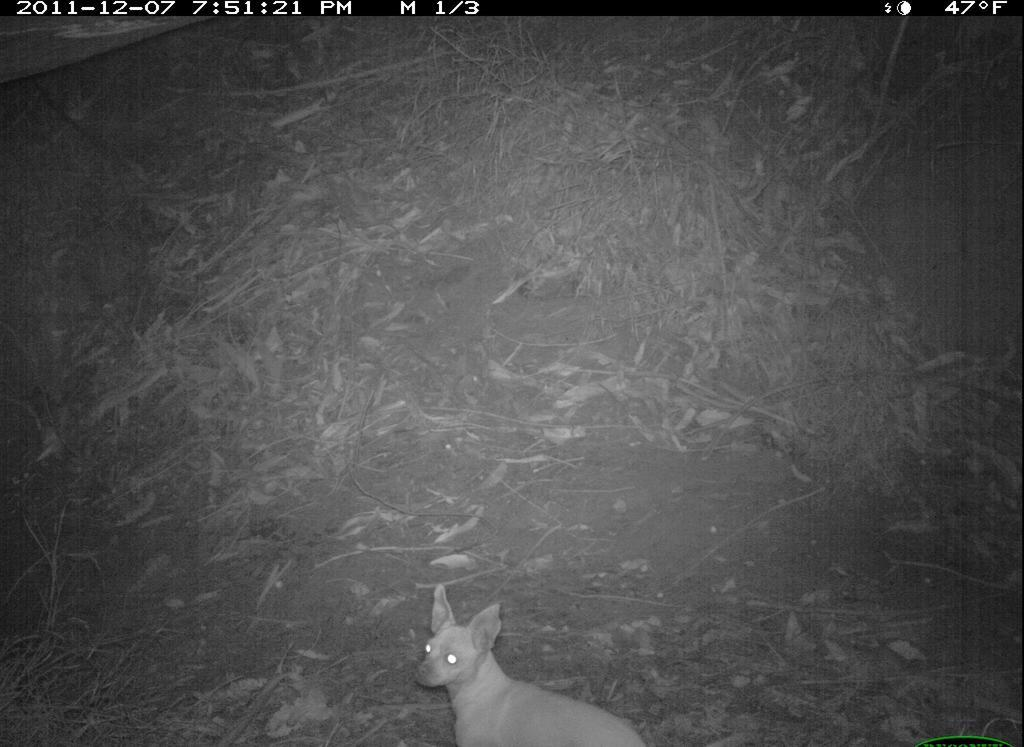dog: (393, 564, 680, 744)
